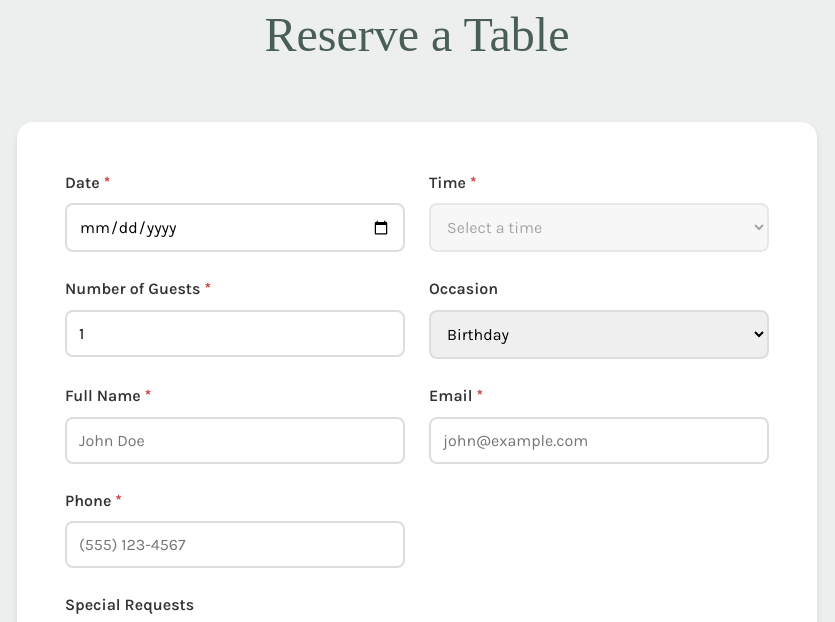
it: BookingForm Component › Form Validation › shows error when email format is invalid
Step 1. Type "invalid-email" into the field labelled "Email *" → {"x": 599, "y": 440}, box [429,417,769,464]
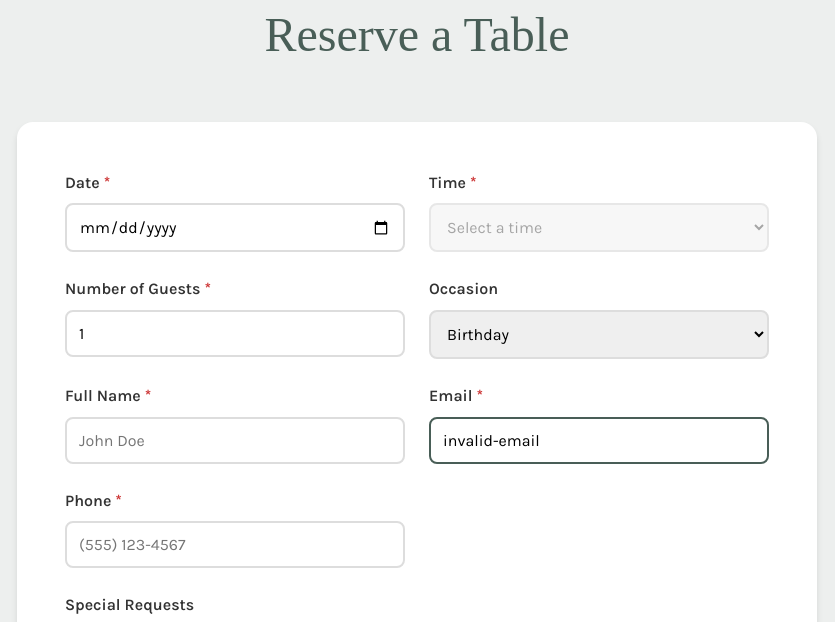
Step 2. Leave the field labelled "Email *", box [429,417,769,464]
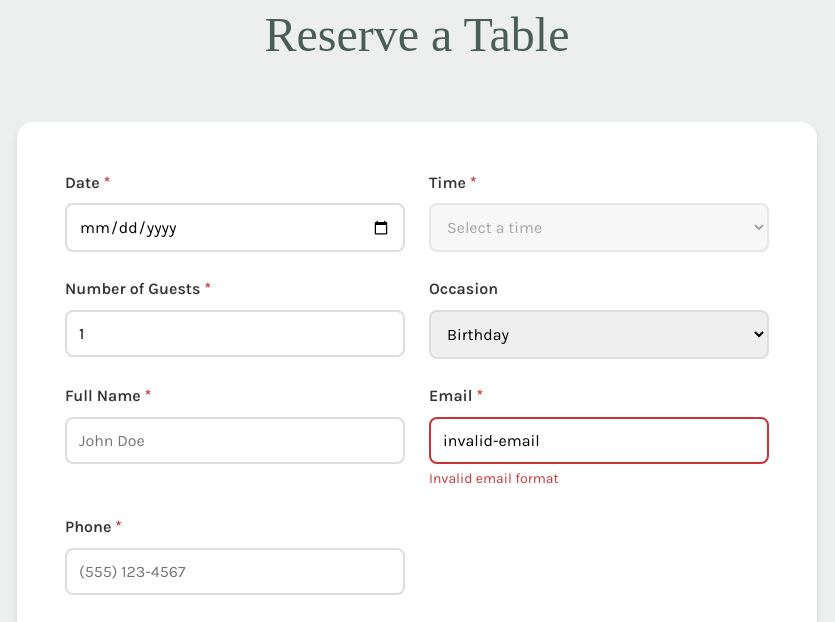
Result: the text "Invalid email format" is shown at [429,470,559,487]
